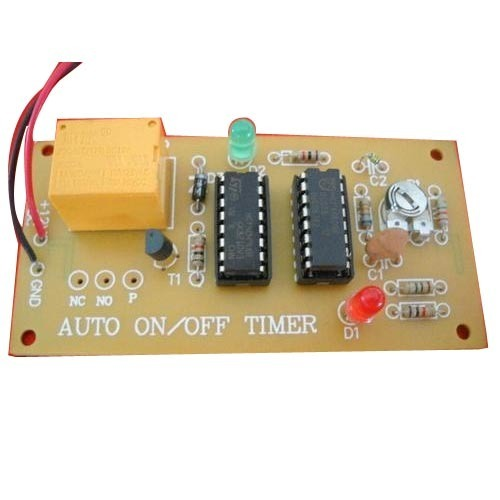resistor: (401, 305, 440, 320), (398, 280, 435, 295), (282, 150, 321, 162), (435, 197, 450, 227), (359, 197, 373, 229), (193, 234, 205, 268)
